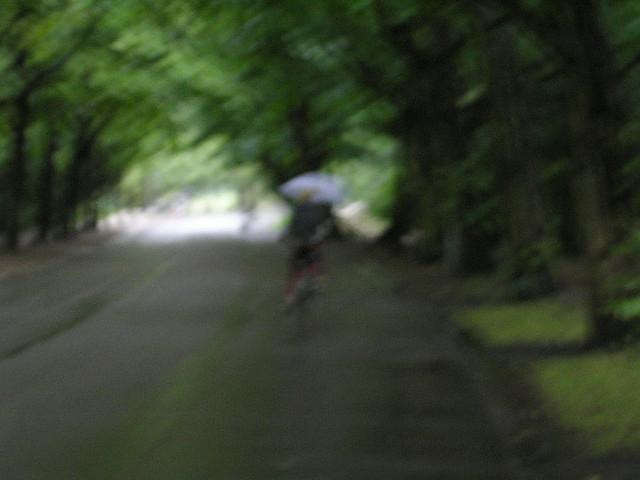bicycle: (274, 228, 360, 326)
